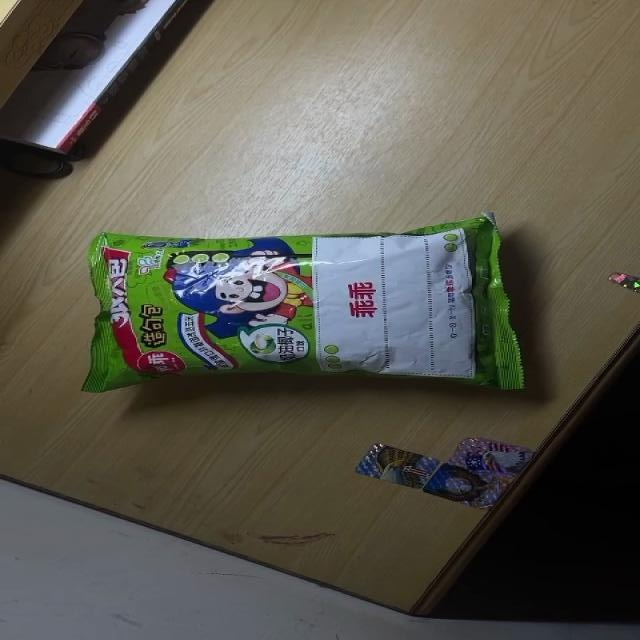Good-Luck: (83, 210, 520, 395)
